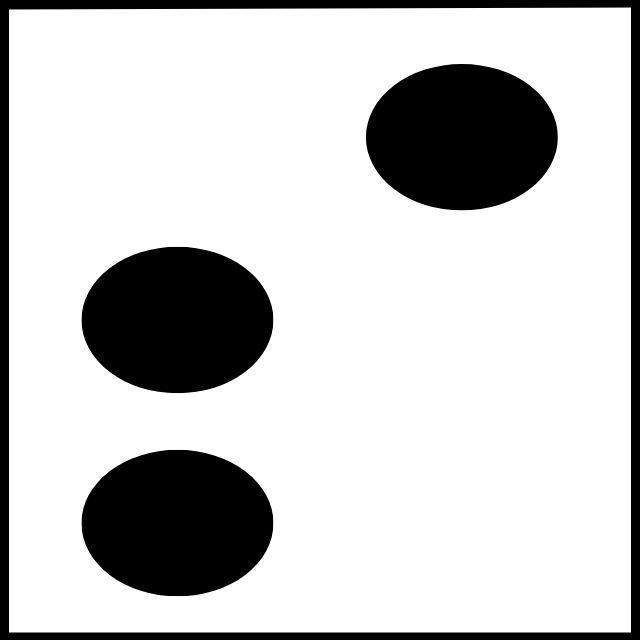one_cell_alphabet_sang-ayon: (79, 63, 561, 596)
